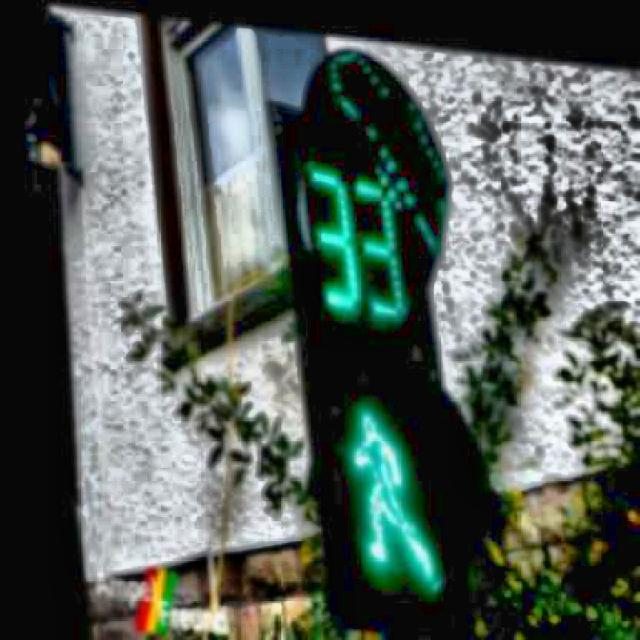semaforo pedestre: (139, 15, 573, 640)
